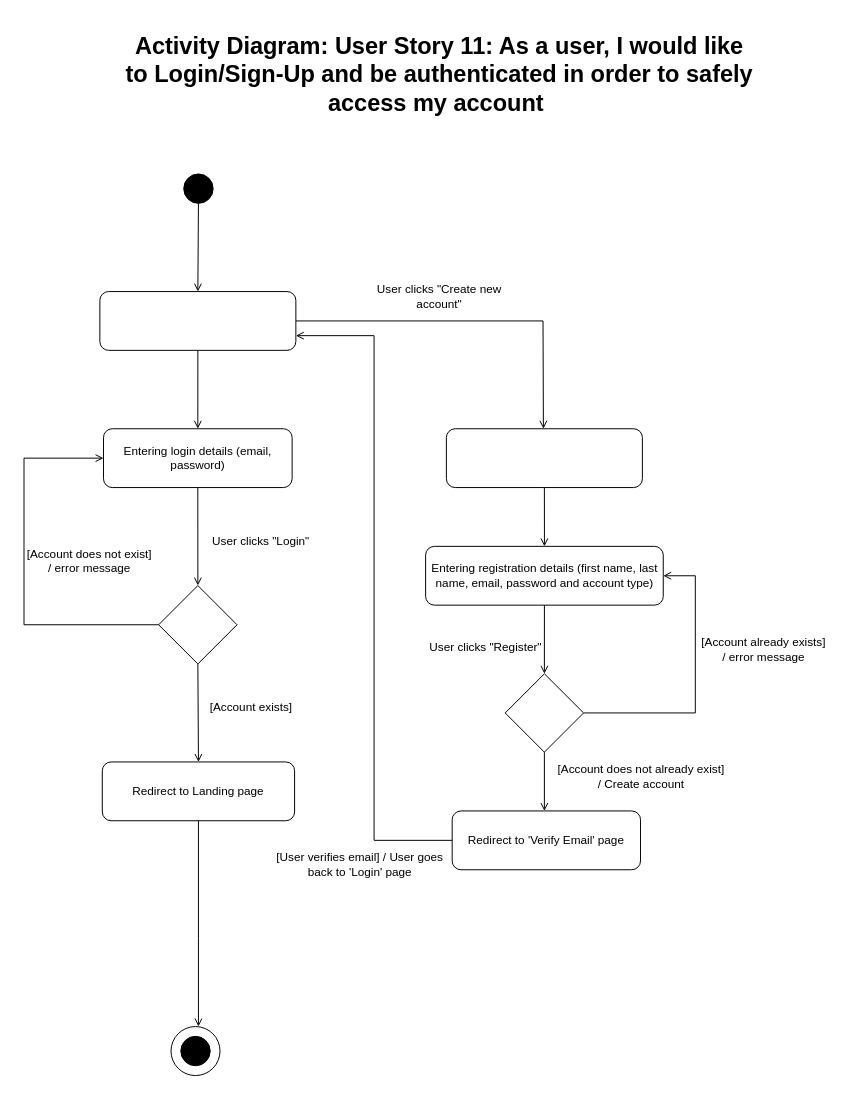
Image size: 845x1093. Some labels were removed from this diagram. The centre of each missing label's shape, as x and y in pixels:
Login Page: the point at 197,320
Register Page: the point at 543,458
